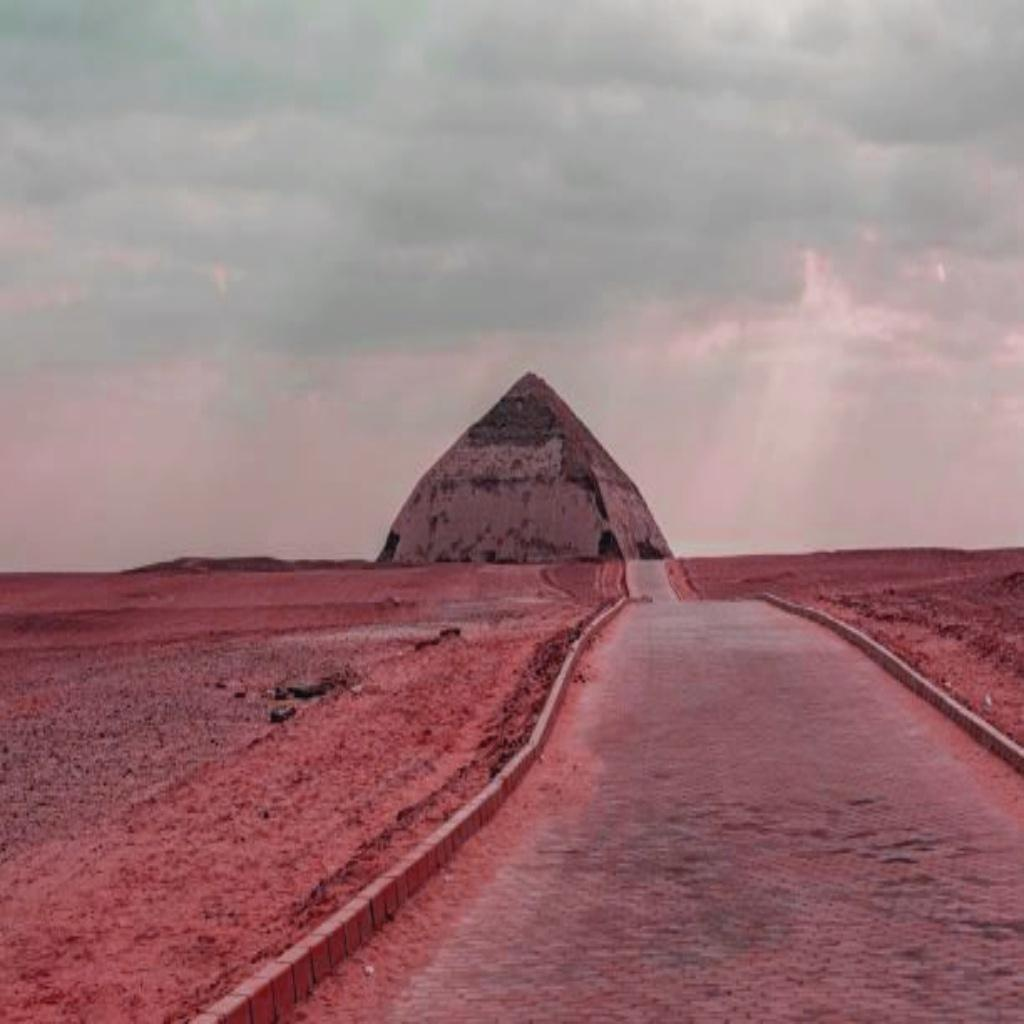Bent Pyramid of King Sneferu: (371, 364, 676, 570)
